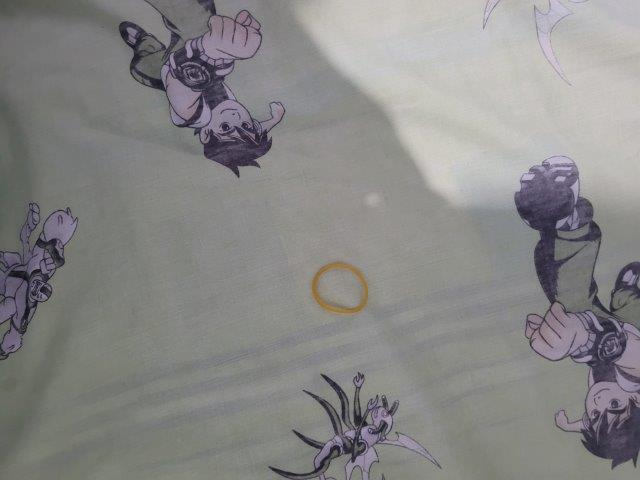karet: (312, 261, 368, 315)
